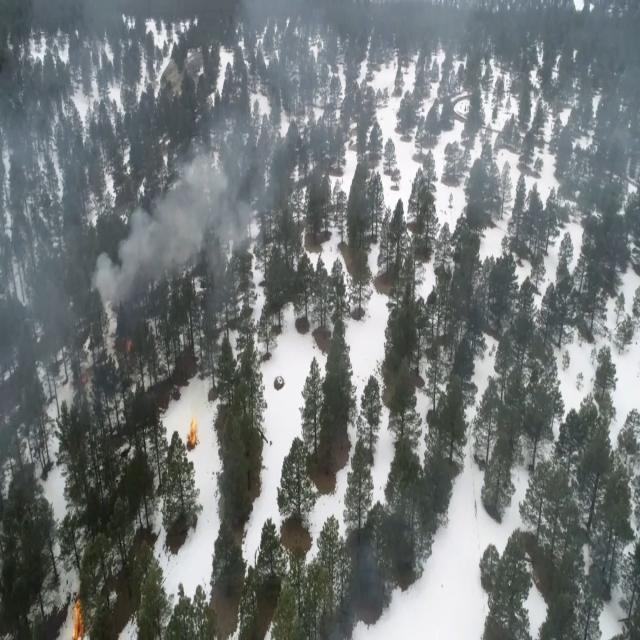Fire: (64, 593, 90, 640), (186, 412, 198, 455), (123, 330, 135, 354)
Smoke: (90, 133, 258, 323)
